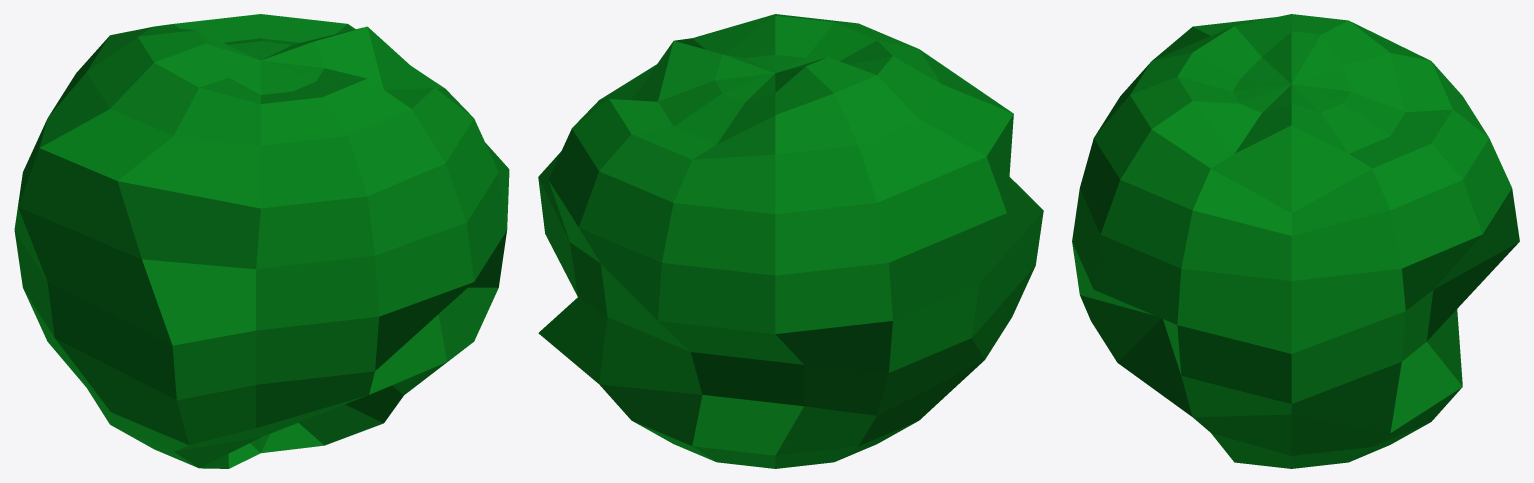
The model's file is Planeta_2.fbx.
3 views of the same model, side by side, from view 1: azimuth 30°, elevation 25°; view 2: azimuth 150°, elevation 25°; view 3: azimuth 270°, elevation 25° (orthographic). The views are drawn at different scales.
Visible parts, largest first — view 1: Planeta; view 2: Planeta; view 3: Planeta.
Part boxes in pixels (left/top/right/bottom): Planeta: left=14, top=14, right=509, bottom=468; Planeta: left=538, top=14, right=1043, bottom=468; Planeta: left=1072, top=14, right=1519, bottom=468.
Size of the model in its own units: 570 by 469 by 485.
